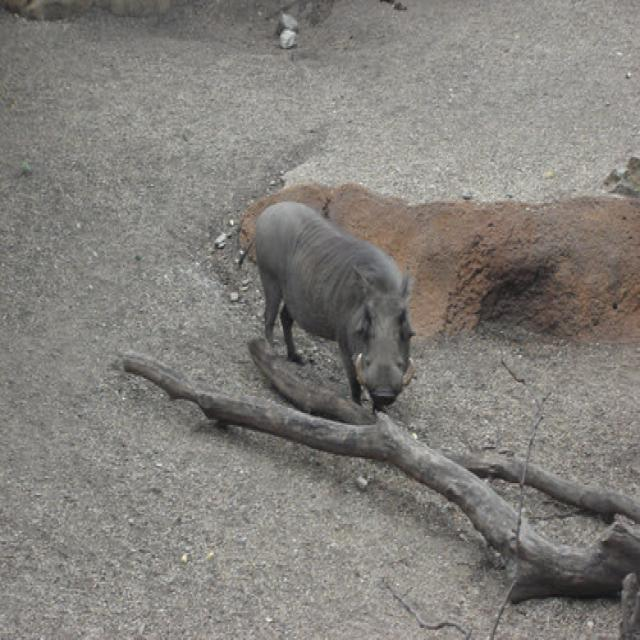boar: (234, 175, 447, 441)
